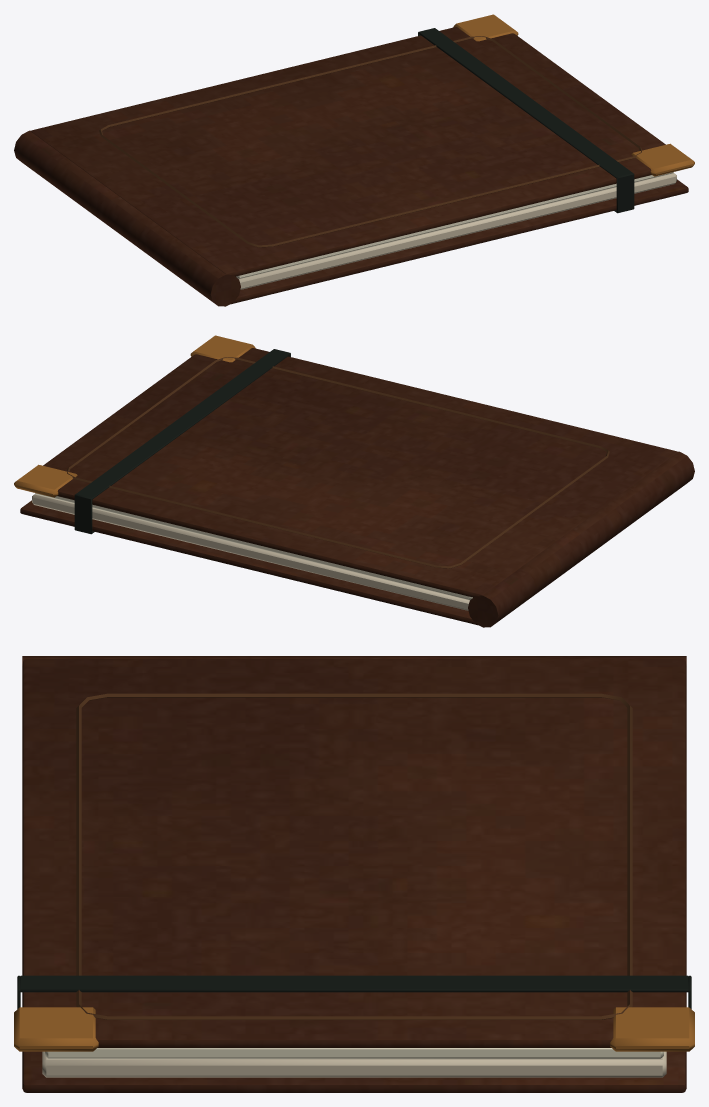
The model's file is arrival-folio.lod0.glb.
3 views of the same model, one above another, from view 1: azimuth 30°, elevation 25°; view 2: azimuth 150°, elevation 25°; view 3: azimuth 270°, elevation 25° (orthographic). The views are drawn at different scales.
Visible parts, largest first — view 1: Folio_Cover_Leather • tobacco, arrival_folio_Leather • tobacco, Folio_Cover_Trim • brass and bronze, arrival_folio_Trim • brass and bronze; view 2: Folio_Cover_Leather • tobacco, arrival_folio_Leather • tobacco, Folio_Cover_Trim • brass and bronze, arrival_folio_Trim • brass and bronze; view 3: Folio_Cover_Leather • tobacco, Folio_Cover_Trim • brass and bronze, arrival_folio_Trim • brass and bronze, arrival_folio_Leather • tobacco.
Boxes of the visible parts, x1,y1,x2,y2 form: Folio_Cover_Leather • tobacco: (31, 27, 665, 276); arrival_folio_Leather • tobacco: (14, 130, 688, 306); Folio_Cover_Trim • brass and bronze: (99, 14, 694, 247); arrival_folio_Trim • brass and bronze: (236, 28, 676, 289); Folio_Cover_Leather • tobacco: (43, 348, 677, 597); arrival_folio_Leather • tobacco: (20, 451, 694, 627); Folio_Cover_Trim • brass and bronze: (14, 335, 609, 568); arrival_folio_Trim • brass and bronze: (32, 349, 472, 610); Folio_Cover_Leather • tobacco: (22, 659, 686, 1047); Folio_Cover_Trim • brass and bronze: (14, 693, 694, 1051); arrival_folio_Trim • brass and bronze: (17, 975, 691, 1077); arrival_folio_Leather • tobacco: (22, 656, 686, 1092).
Bounding box in the file's own units: 0.3335 × 0.0236 × 0.241.
Materials: 2 (2 with a texture image).
